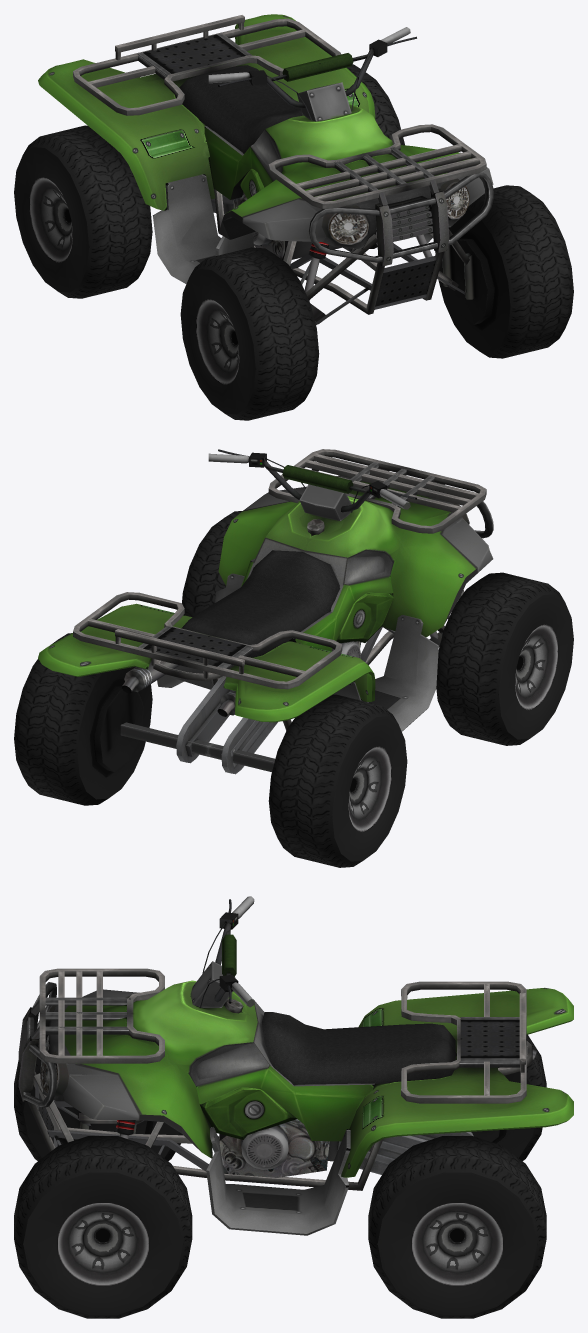
The model's file is bike_6.fbx.
The picture shows the model from 3 angles, top to bottom: view 1: azimuth 30°, elevation 25°; view 2: azimuth 150°, elevation 25°; view 3: azimuth 270°, elevation 25°; orthographic projection. The views are drawn at different scales.
Visible parts, largest first — view 1: polySurface1, t_r, t_r1, t_l, t_l1; view 2: polySurface1, t_r, t_r1, t_l1, t_l; view 3: polySurface1, t_l, t_l1, t_r, t_r1.
Boxes of the visible parts, x1,y1,x2,y2 form: polySurface1: (38,14,493,325); t_r: (180,247,319,420); t_r1: (14,125,152,298); t_l: (435,185,573,358); t_l1: (347,64,404,145); polySurface1: (38,449,493,774); t_r: (436,572,573,745); t_r1: (268,694,407,867); t_l1: (14,633,152,805); t_l: (182,511,241,617); polySurface1: (18,896,573,1235); t_l: (14,1136,192,1318); t_l1: (368,1136,546,1318); t_r: (14,1057,182,1161); t_r1: (471,1035,546,1161).
Bounding box in the file's own units: 156 × 128 × 222.
